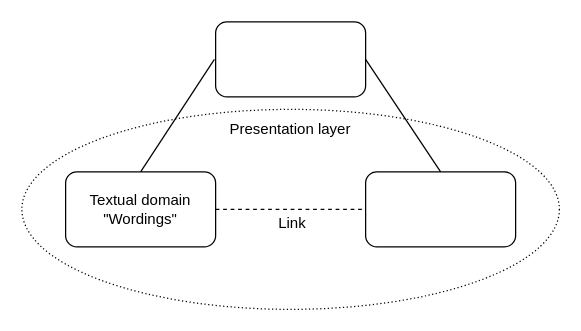
Some shapes in this 581 by 331 pixel diagram are drawn without their labels. Each missing label, with the box of its shape:
Application domain "Topic": (214, 21, 366, 97)
Graphical domain "Graphs": (364, 171, 516, 247)
